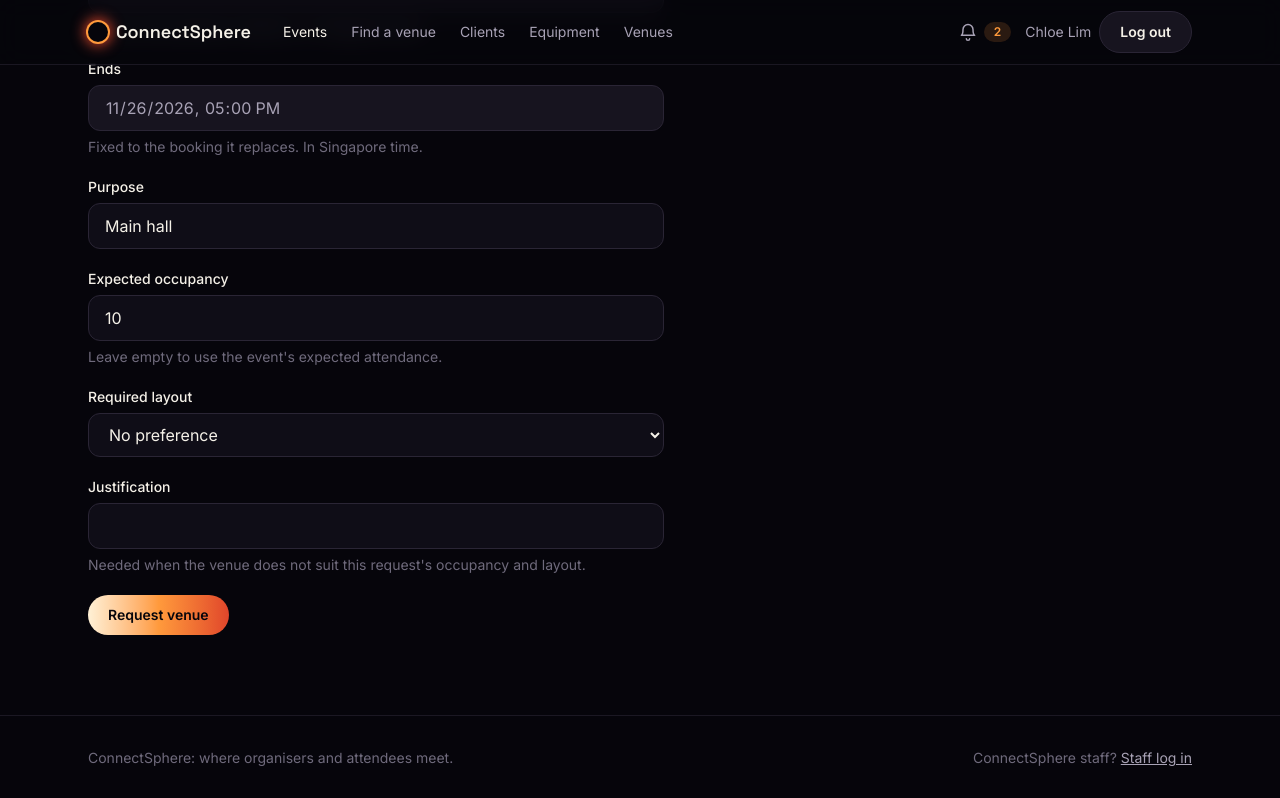
Test case: SCRUM-92 raising a replacement for a flagged arrangement (AC6) › shows the backend’s own words for its 400 on the arrangement replaced, beside the replacement
(page scrolled)
Click the button "Request venue" at (158, 615), box [88,595,229,635]
(page scrolled)
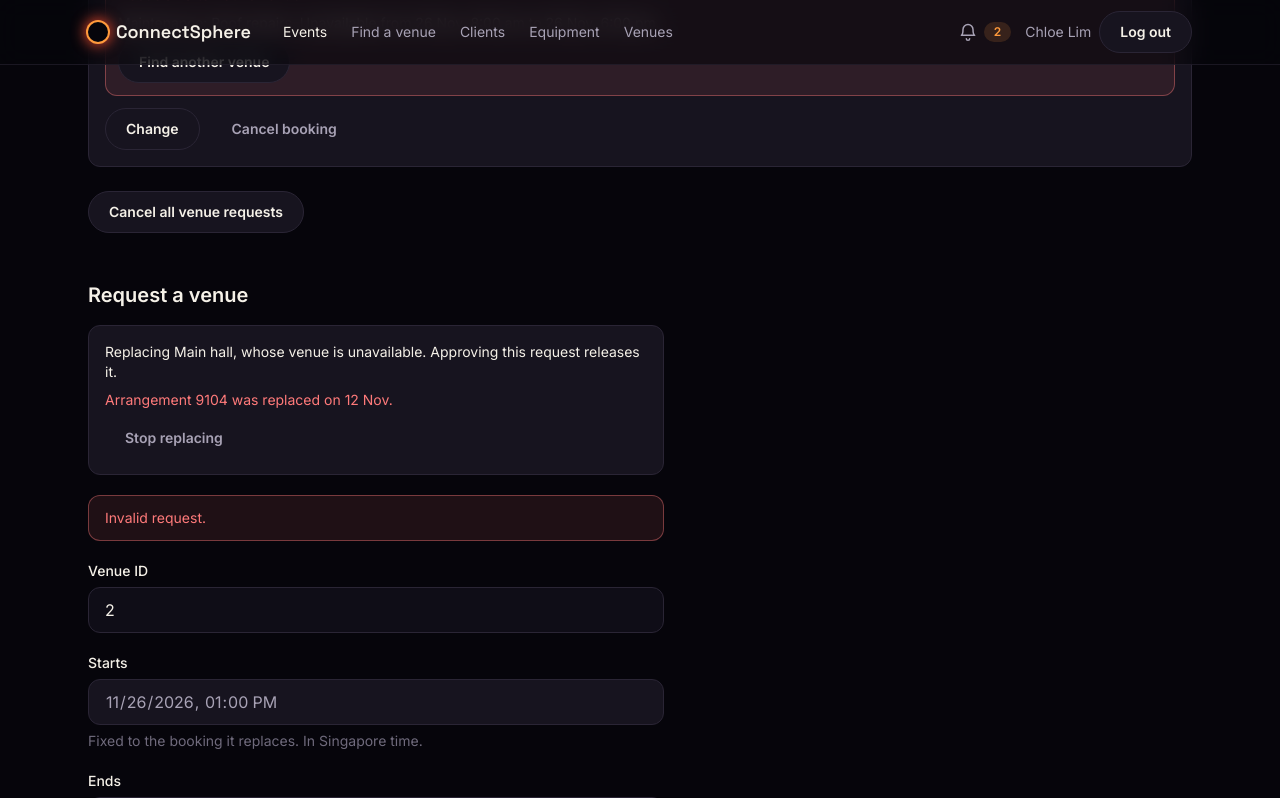
Now the list item "Arrangement 9104 was replaced on 12 Nov." is shown, box [105,391,393,408]
